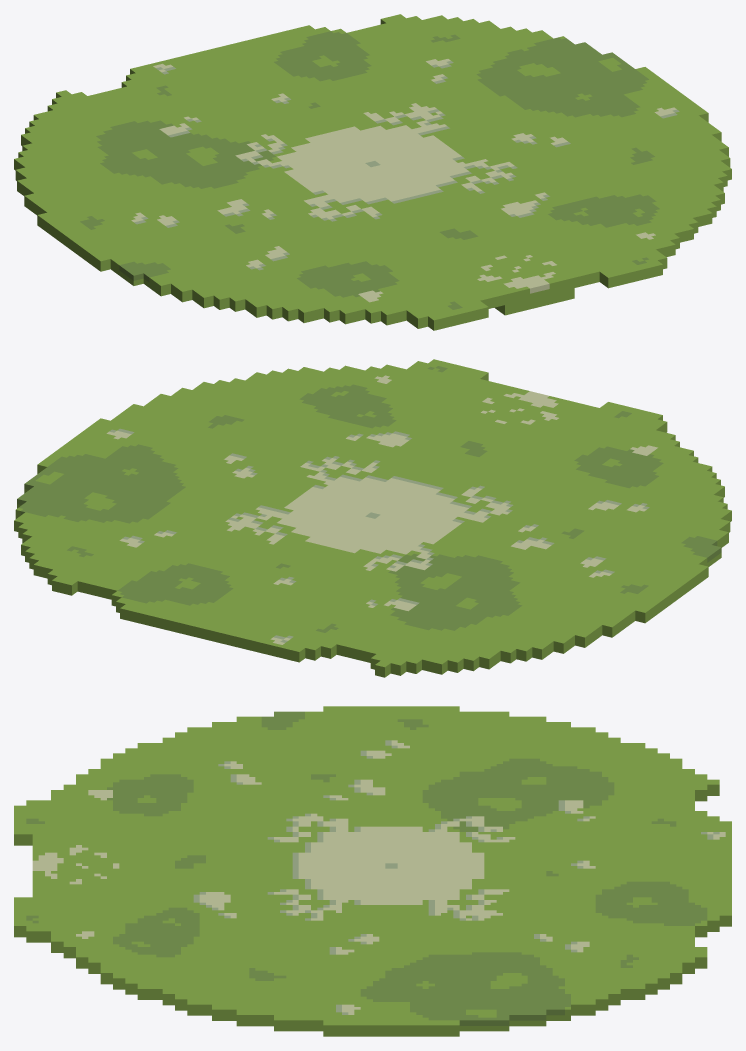
Rendered from ground-03-06.obj.
3 views of the same model, one above another, from view 1: azimuth 30°, elevation 25°; view 2: azimuth 150°, elevation 25°; view 3: azimuth 270°, elevation 25° (orthographic). The views are drawn at different scales.
Bounding box in the file's own units: 12.2 × 0.4 × 11.6.
1 material, 1 textured.
